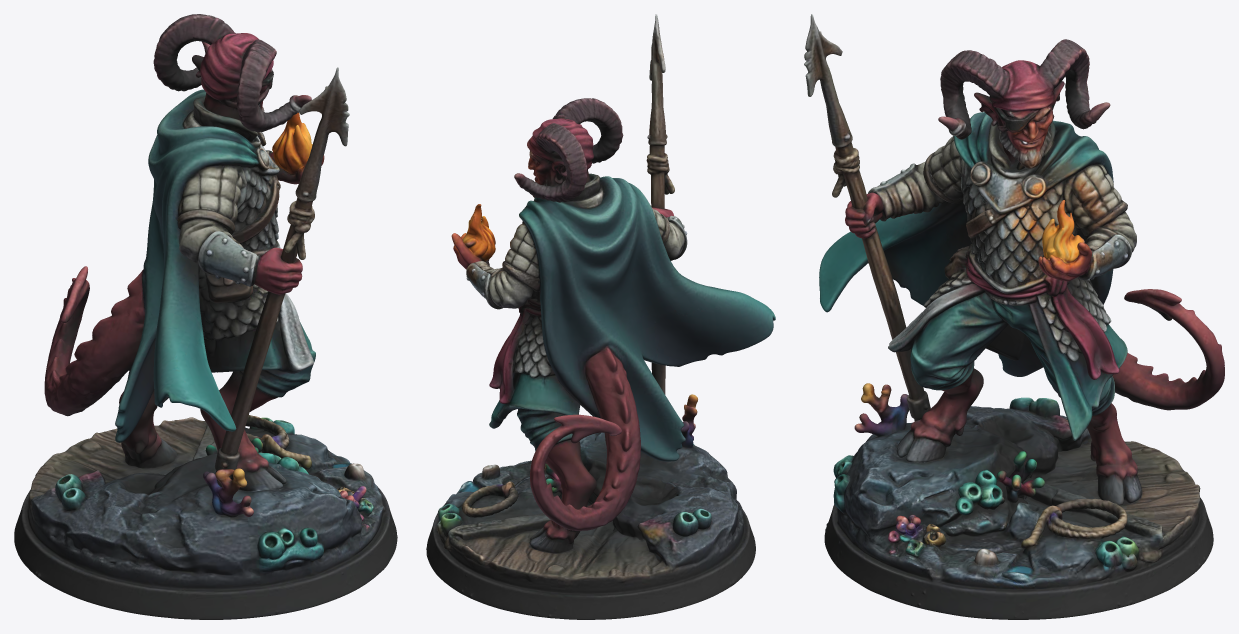
Rendered from inspiration-370.glb.
3 renders of one model, left to right at view 1: azimuth 30°, elevation 25°; view 2: azimuth 150°, elevation 25°; view 3: azimuth 270°, elevation 25°, orthographic. The views are drawn at different scales.
Parts seen in each view (by area): view 1: tripo_node_be26aefd-e753-4edd-8145-b8e6a26e4628; view 2: tripo_node_be26aefd-e753-4edd-8145-b8e6a26e4628; view 3: tripo_node_be26aefd-e753-4edd-8145-b8e6a26e4628.
Boxes of the visible parts, <box> form: tripo_node_be26aefd-e753-4edd-8145-b8e6a26e4628: <box>14,14,397,619</box>; tripo_node_be26aefd-e753-4edd-8145-b8e6a26e4628: <box>426,14,775,619</box>; tripo_node_be26aefd-e753-4edd-8145-b8e6a26e4628: <box>804,14,1224,619</box>.
Bounding box in the file's own units: 0.6451 × 1 × 0.7069.
1 material, 1 textured.
